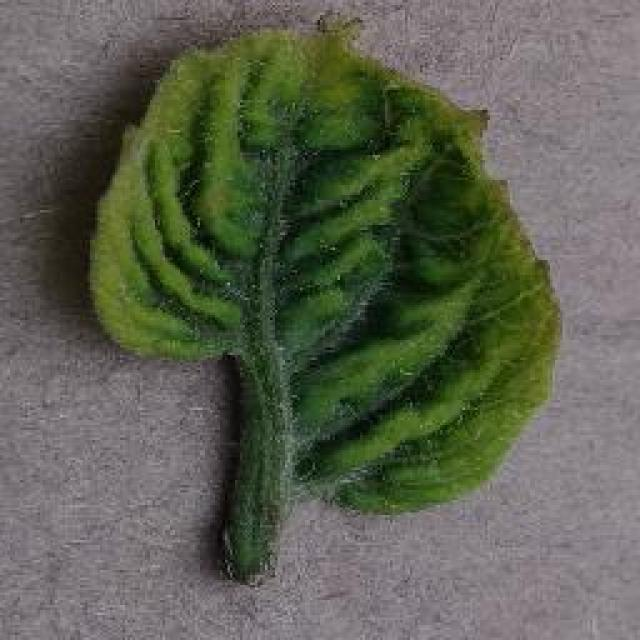Tomato yellow virus leaf: (84, 12, 567, 520)
